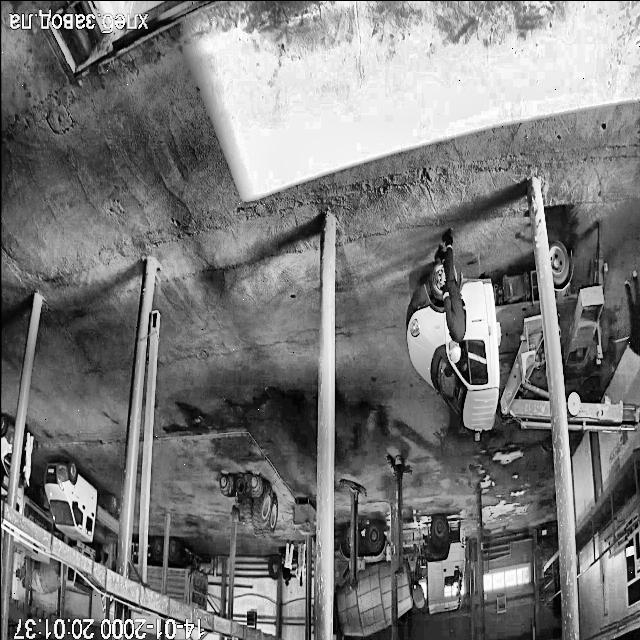car lift: (564, 221, 604, 363), (500, 316, 550, 428), (340, 479, 365, 587), (388, 455, 410, 572)
mechanic: (435, 228, 466, 363), (624, 270, 640, 356), (282, 542, 292, 586), (296, 542, 305, 587)
truck: (407, 263, 550, 438), (396, 516, 464, 616), (334, 522, 392, 636), (550, 243, 603, 363), (44, 460, 118, 540), (167, 538, 207, 610), (566, 393, 640, 430), (16, 486, 52, 531), (18, 556, 60, 594), (12, 535, 49, 563), (146, 538, 162, 592), (64, 566, 92, 596), (0, 414, 13, 474), (75, 541, 102, 563), (0, 476, 8, 498), (596, 238, 600, 266), (130, 565, 137, 580), (132, 546, 136, 557), (10, 529, 11, 532)
